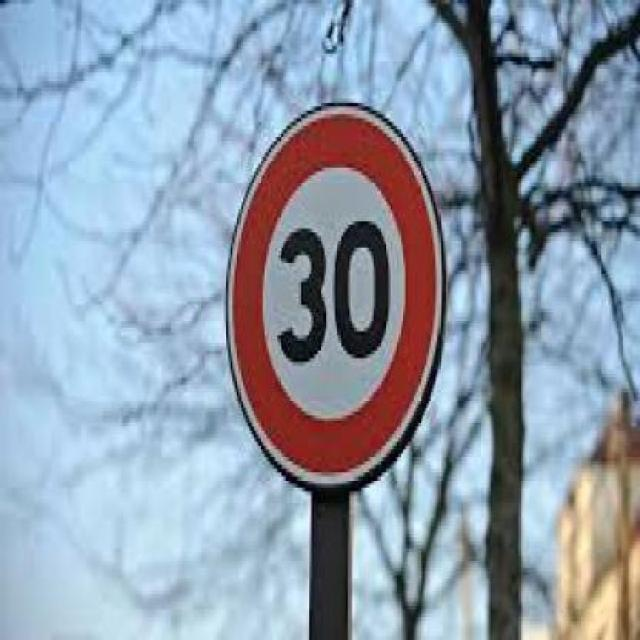forb_speed_over_30: (227, 106, 444, 482)
